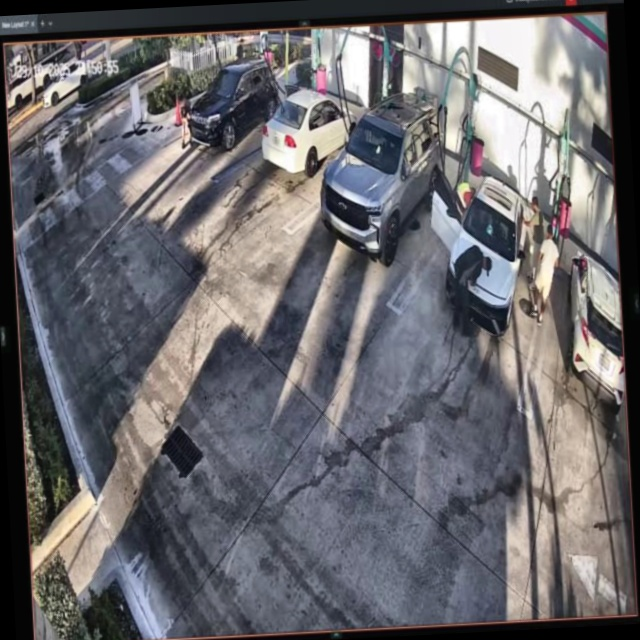Car: (318, 92, 451, 263), (434, 164, 532, 339), (262, 87, 358, 179), (186, 60, 280, 153)
